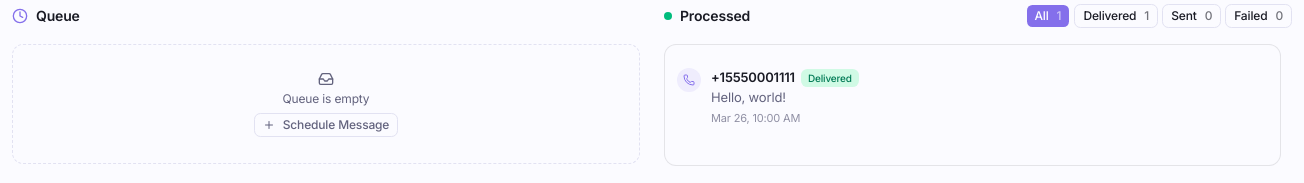
Test: MessageList › filter chips › shows empty filter state when no messages match
expect the text "+15550001111" is shown: met, box [711,71,795,84]
Click the button "Failed 0" at (1259, 16), box [1225,4,1292,28]
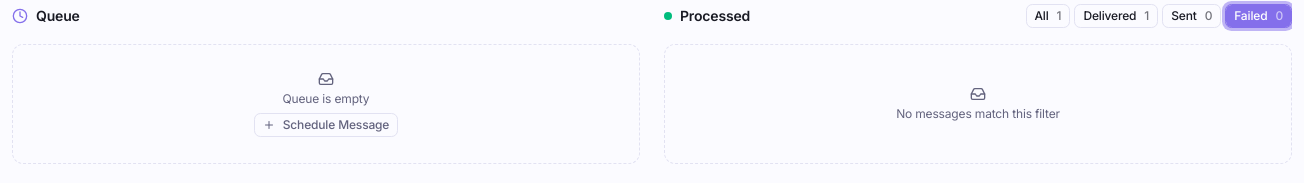
expect the text "No messages match this filter" is shown: met, box [896,106,1060,122]
